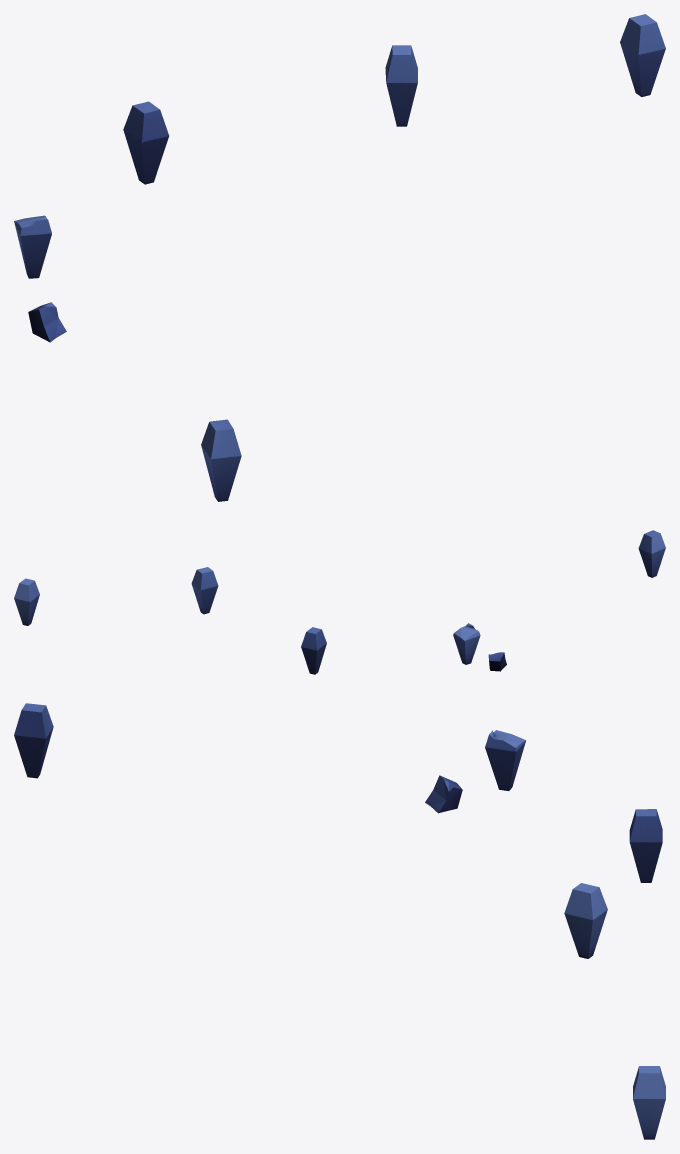
The model's file is Crystal_01.FBX.
3 renders of one model, top to bottom at view 1: azimuth 30°, elevation 25°; view 2: azimuth 150°, elevation 25°; view 3: azimuth 270°, elevation 25°, orthographic. The views are drawn at different scales.
Visible parts, largest first — view 1: Crystal_01; view 2: Crystal_01; view 3: Crystal_01.
Boxes of the visible parts, x1,y1,x2,y2 form: Crystal_01: (14,14,665,501); Crystal_01: (14,530,665,674); Crystal_01: (14,703,665,1139).
Size of the model in its own units: 27.34 by 4.52 by 21.3.
